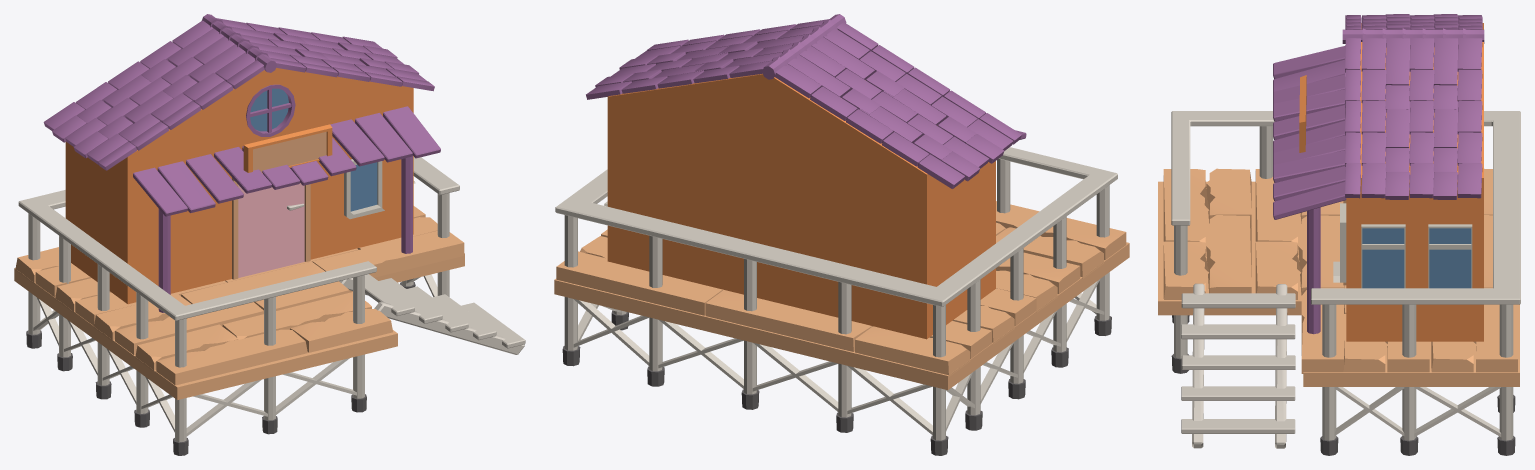
The model's file is BeachHouse.fbx.
3 renders of one model, left to right at view 1: azimuth 30°, elevation 25°; view 2: azimuth 150°, elevation 25°; view 3: azimuth 270°, elevation 25°, orthographic. The views are drawn at different scales.
Visible parts, largest first — view 1: BeachHouse; view 2: BeachHouse; view 3: BeachHouse.
Boxes of the visible parts, x1,y1,x2,y2 form: BeachHouse: [14, 14, 525, 455]; BeachHouse: [554, 14, 1129, 455]; BeachHouse: [1158, 14, 1520, 455].
Size of the model in its own units: 23.44 by 18.49 by 18.21.
